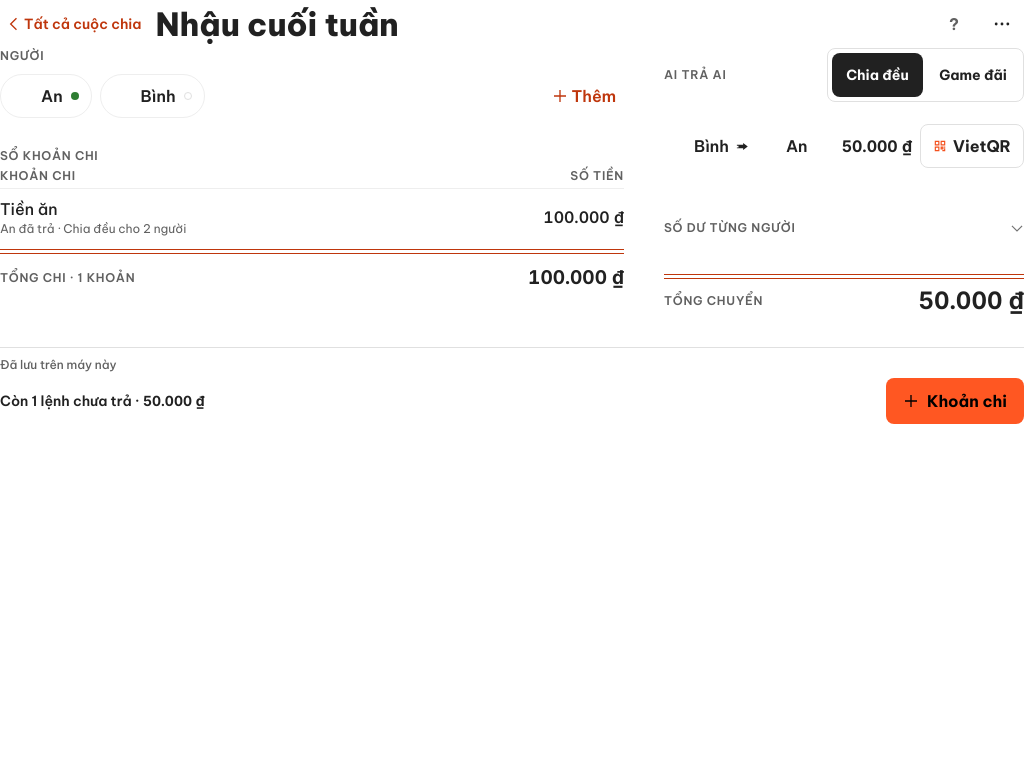
Test: masking ngân hàng (DATA-03) ở tầng component › Sheet 4 Chia sẻ: link phiên + 1 dòng DATA-04; link không chứa số tài khoản/tên chủ tài khoản
Click the button named "Hành động của cuộc chia".
click(1002, 24)  # box [980,2,1023,46]
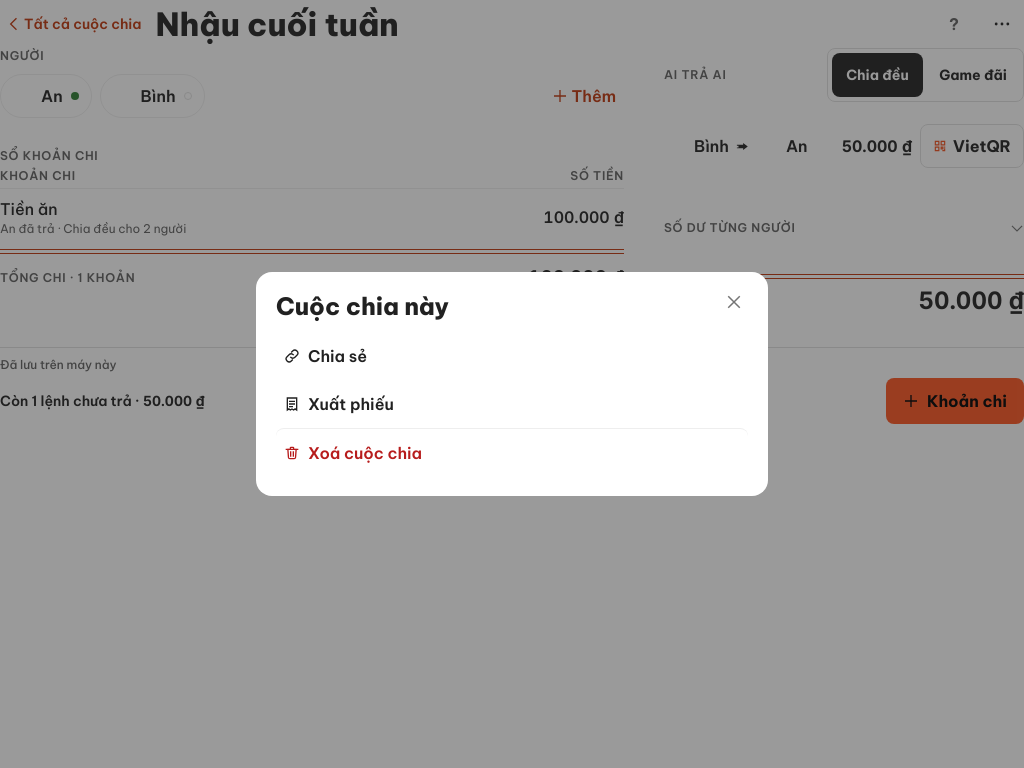
Click the button "Chia sẻ".
click(338, 356)  # box [276,332,748,380]
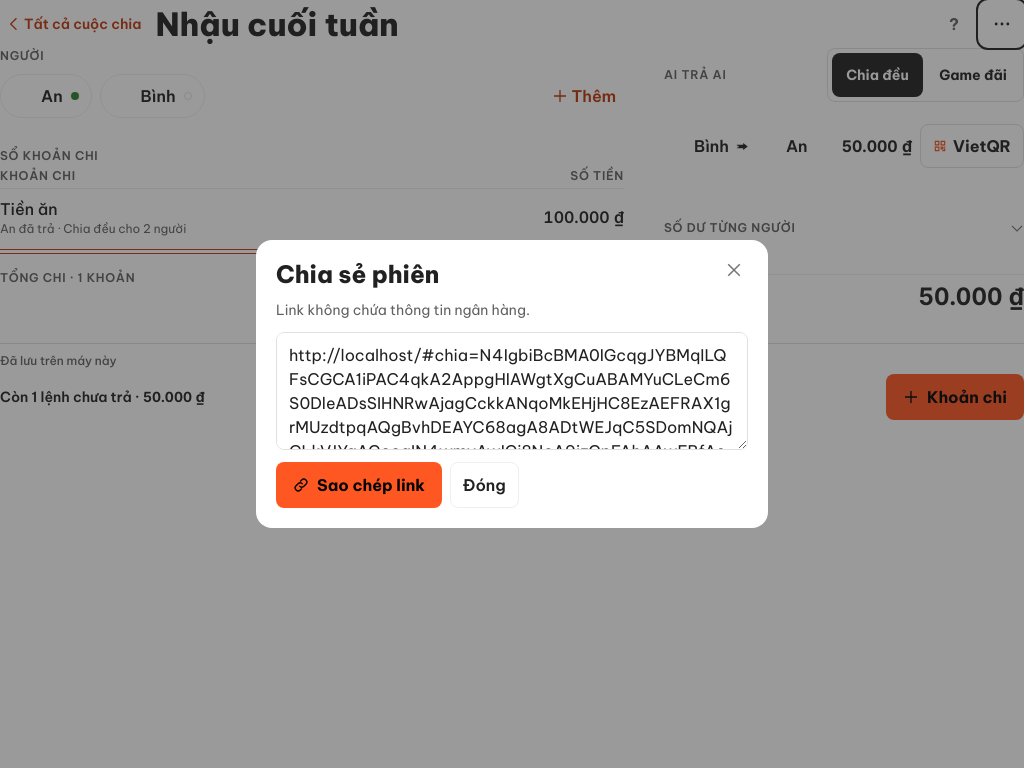
Expected: the text "Link không chứa thông tin ngân hàng." is shown, [276,301,530,319]
